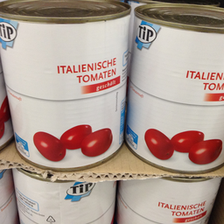tomato_sauce: (1, 1, 131, 171), (124, 3, 224, 174)
